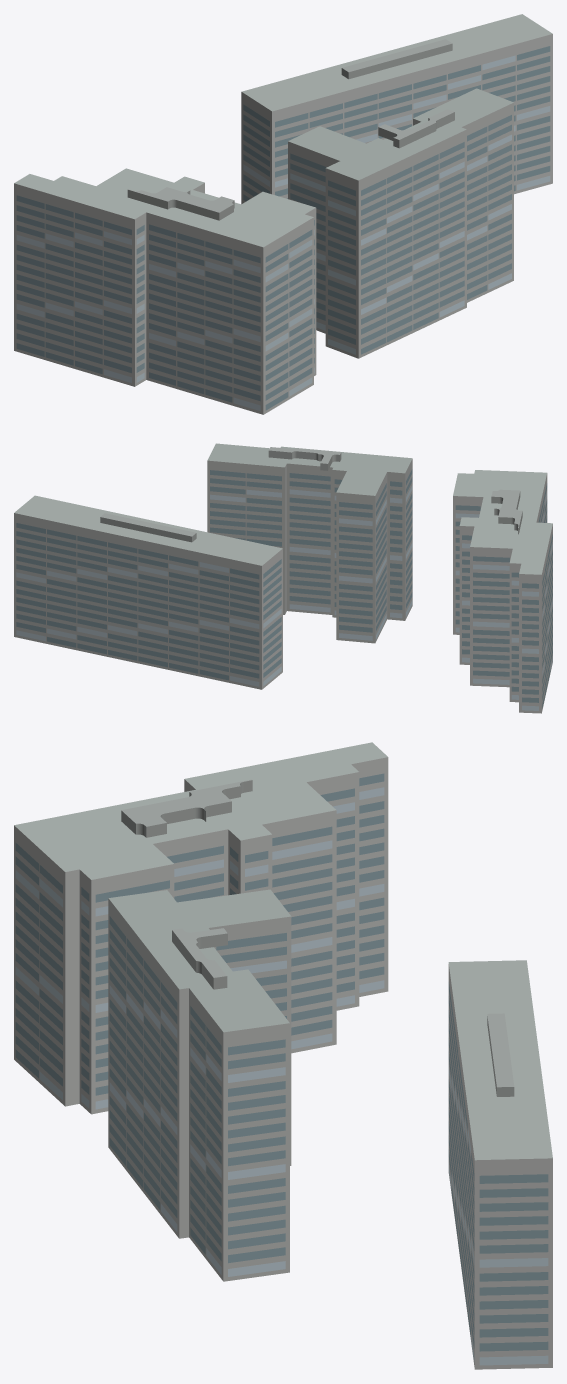
File: apt-a13980403.glb
3 renders of one model, top to bottom at view 1: azimuth 30°, elevation 25°; view 2: azimuth 150°, elevation 25°; view 3: azimuth 270°, elevation 25°, orthographic. The views are drawn at different scales.
Parts seen in each view (by area): view 1: apt-a13980403; view 2: apt-a13980403; view 3: apt-a13980403.
Part boxes in pixels (<box>): apt-a13980403: <box>14,14,552,414</box>; apt-a13980403: <box>14,443,552,713</box>; apt-a13980403: <box>14,742,552,1369</box>.
Size of the model in its own units: 161 by 50 by 93.54.
